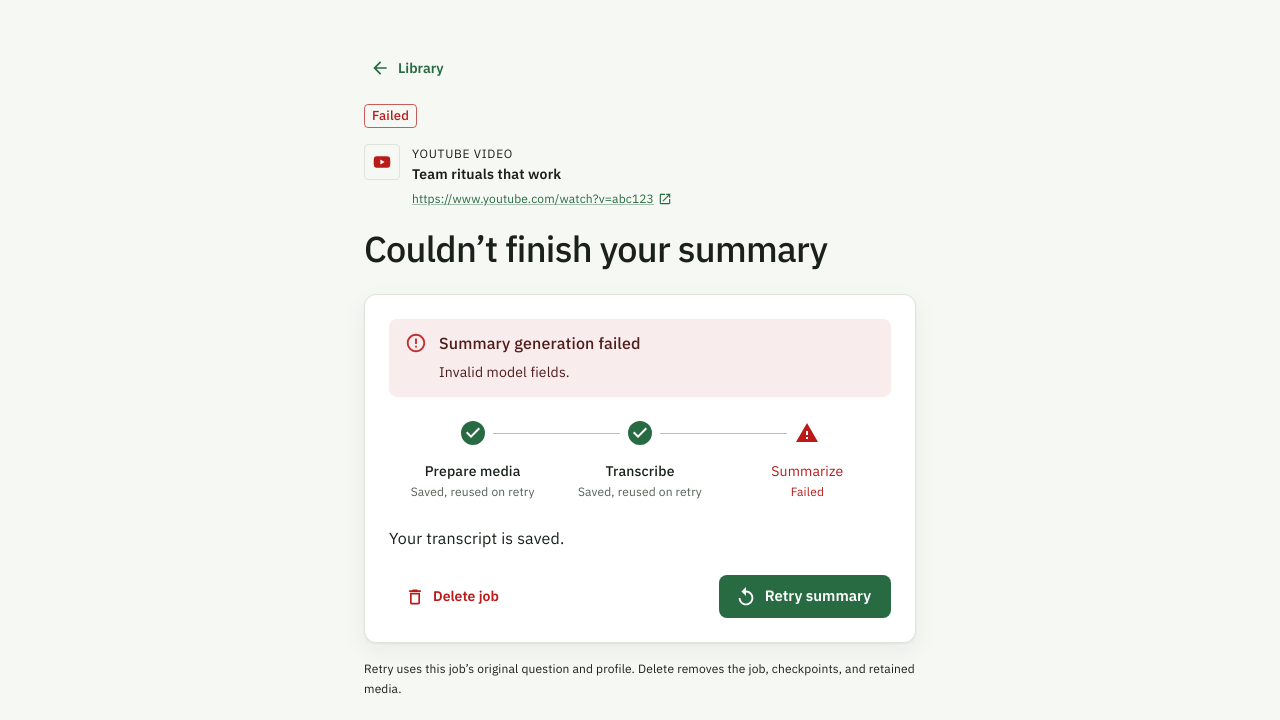
job recovery and loading › deletes a failed job and handles an empty 204 response before returning to the library
The image size is (1280, 720).
Click the button "Delete job": (454, 597) [389,575,519,618]
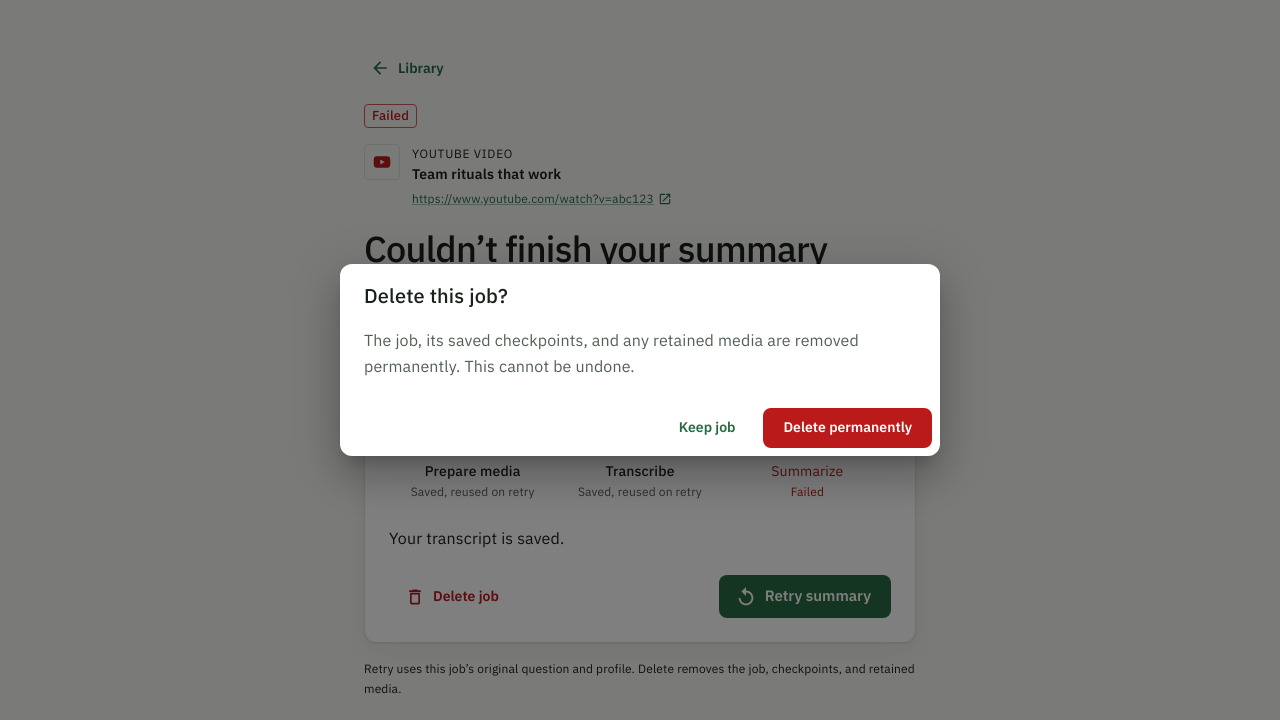
Click the button "Delete permanently": (848, 428) [764,408,932,448]
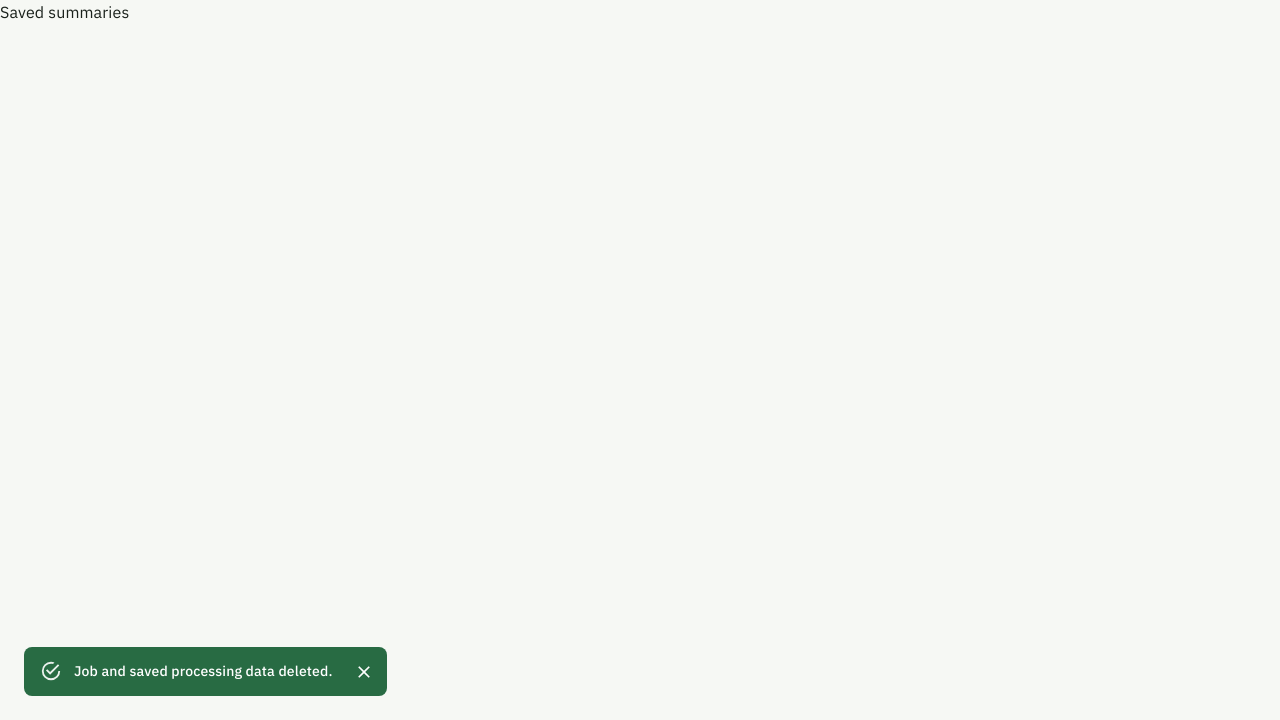
Expected: the text "Saved summaries" is shown, [0,2,129,22]
